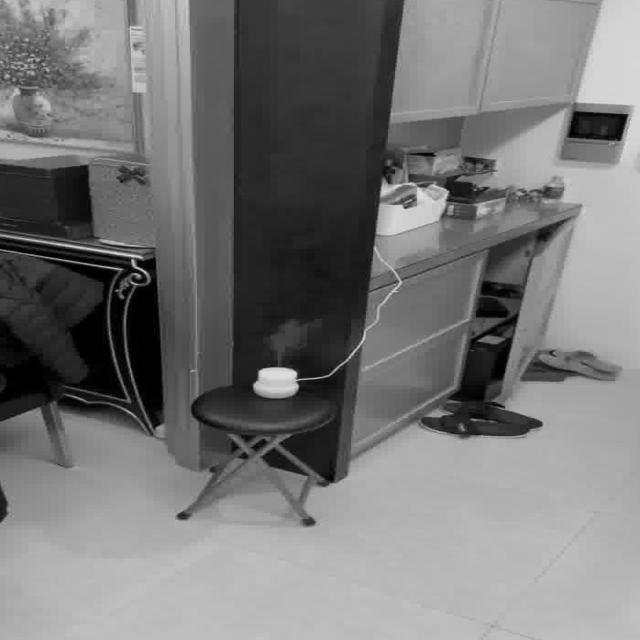fire: (254, 317, 319, 362)
